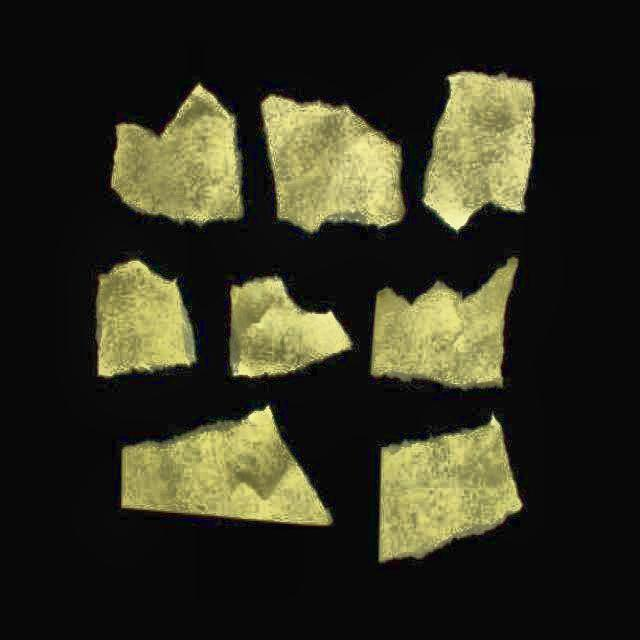cardboard: (123, 408, 332, 530), (373, 418, 521, 564), (422, 70, 535, 248), (109, 85, 245, 227), (372, 258, 517, 387), (266, 98, 401, 231), (232, 279, 353, 379), (96, 261, 198, 379)
